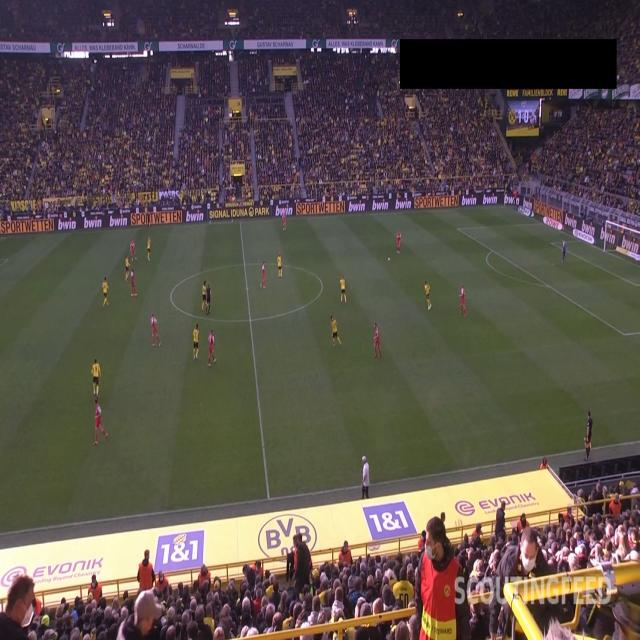ball: (388, 256, 390, 262)
